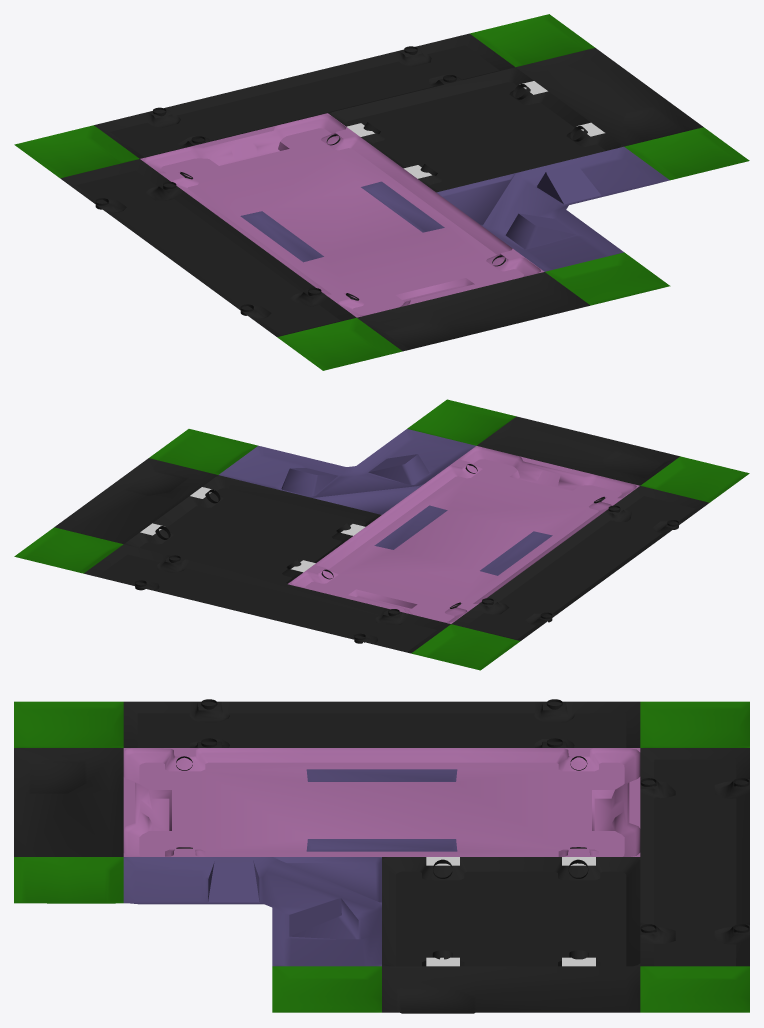
File: Building_B_Staircase_A_Ceiling_B.fbx
3 views of the same model, one above another, from view 1: azimuth 30°, elevation 25°; view 2: azimuth 150°, elevation 25°; view 3: azimuth 270°, elevation 25° (orthographic). The views are drawn at different scales.
Parts seen in each view (by area): view 1: Geom_Building_B_Staircase_A_Ceiling_B_LOD00; view 2: Geom_Building_B_Staircase_A_Ceiling_B_LOD00; view 3: Geom_Building_B_Staircase_A_Ceiling_B_LOD00.
Boxes of the visible parts, left/top/right/bottom form: Geom_Building_B_Staircase_A_Ceiling_B_LOD00: left=14, top=14, right=749, bottom=370; Geom_Building_B_Staircase_A_Ceiling_B_LOD00: left=14, top=399, right=749, bottom=670; Geom_Building_B_Staircase_A_Ceiling_B_LOD00: left=14, top=699, right=749, bottom=1013.
Size of what is drawn, in the model's own units: 1140 by 48.81 by 1140.
